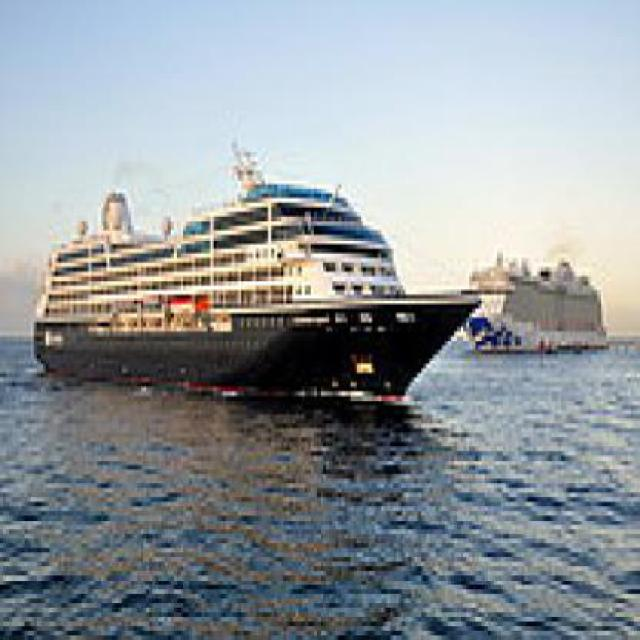cruise: (23, 125, 507, 425)
